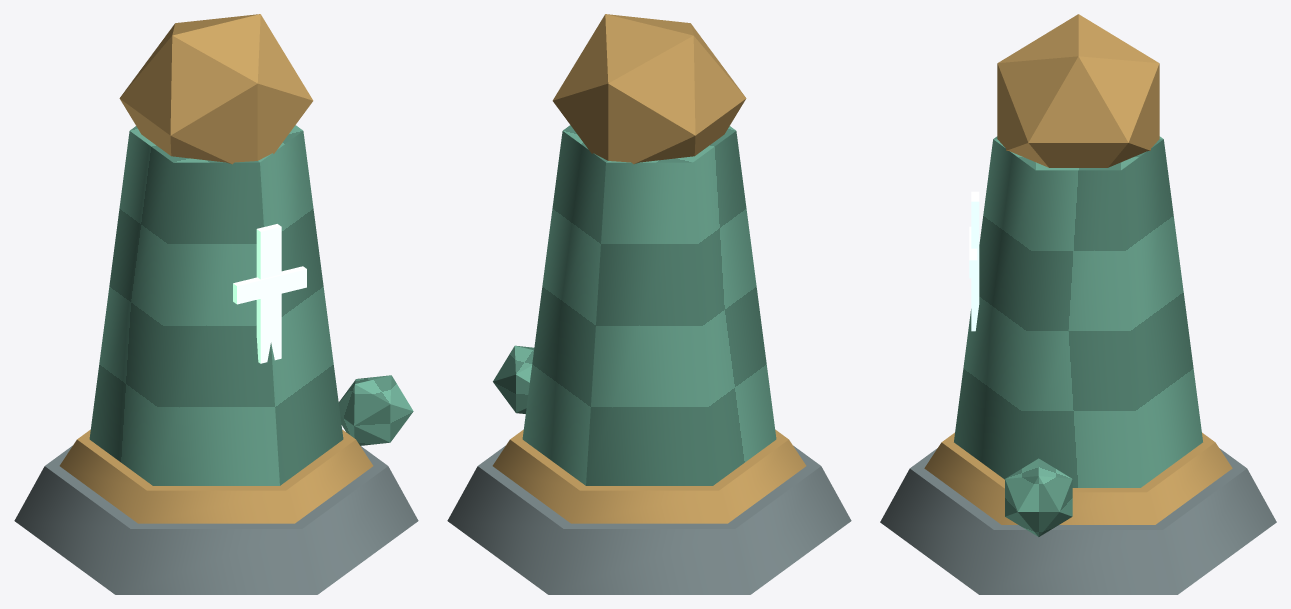
Rendered from Runestone.glb.
3 views of the same model, side by side, from view 1: azimuth 30°, elevation 25°; view 2: azimuth 150°, elevation 25°; view 3: azimuth 270°, elevation 25° (orthographic).
Visible parts, largest first — view 1: Monolith, Plinth, Crown, Foot trim, Offset shard, Rune, Rune cross; view 2: Monolith, Plinth, Crown, Foot trim, Offset shard; view 3: Monolith, Plinth, Crown, Foot trim, Offset shard, Rune.
Part boxes in pixels (x1,y1,x2,y2): Monolith: [89, 125, 343, 485]; Plinth: [14, 445, 418, 594]; Crown: [119, 14, 313, 164]; Foot trim: [59, 430, 373, 523]; Offset shard: [338, 375, 413, 445]; Rune: [256, 224, 281, 363]; Rune cross: [233, 266, 306, 304]; Monolith: [522, 125, 776, 485]; Plinth: [447, 445, 851, 594]; Crown: [552, 14, 746, 164]; Foot trim: [492, 430, 806, 523]; Offset shard: [493, 345, 534, 413]; Monolith: [954, 136, 1202, 487]; Plinth: [880, 448, 1276, 594]; Crown: [997, 14, 1159, 167]; Foot trim: [924, 432, 1232, 524]; Offset shard: [1005, 458, 1072, 536]; Rune: [971, 191, 979, 331].
Size of the model in its own units: 1.82 by 2.71 by 2.
4 materials, 1 textured.
